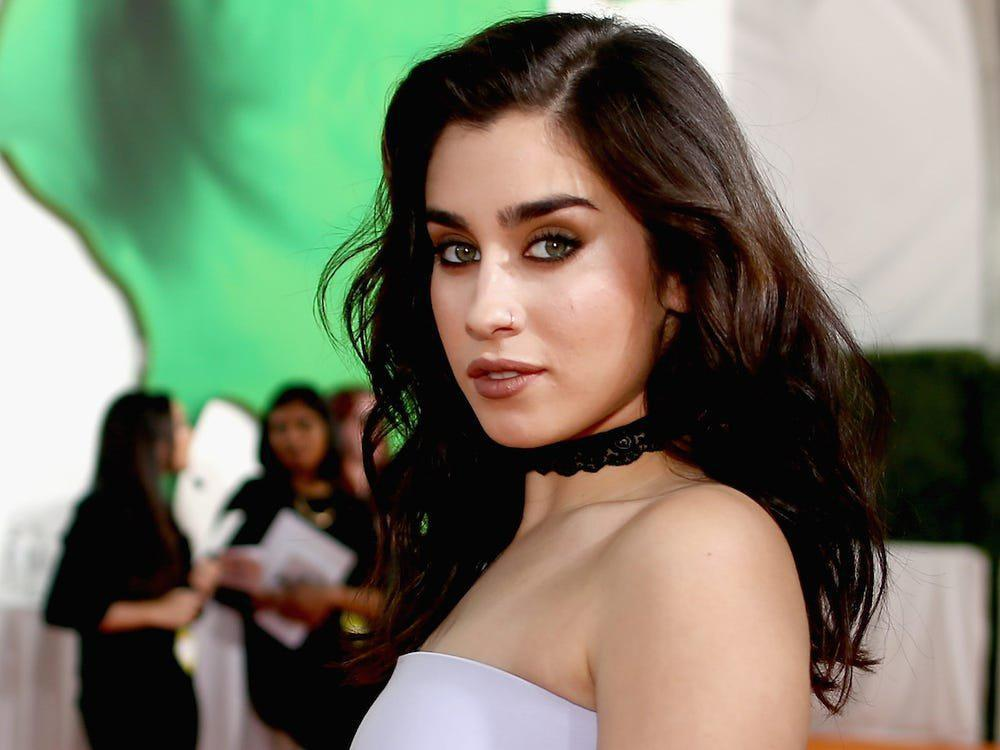Sober: (424, 147, 643, 434)
